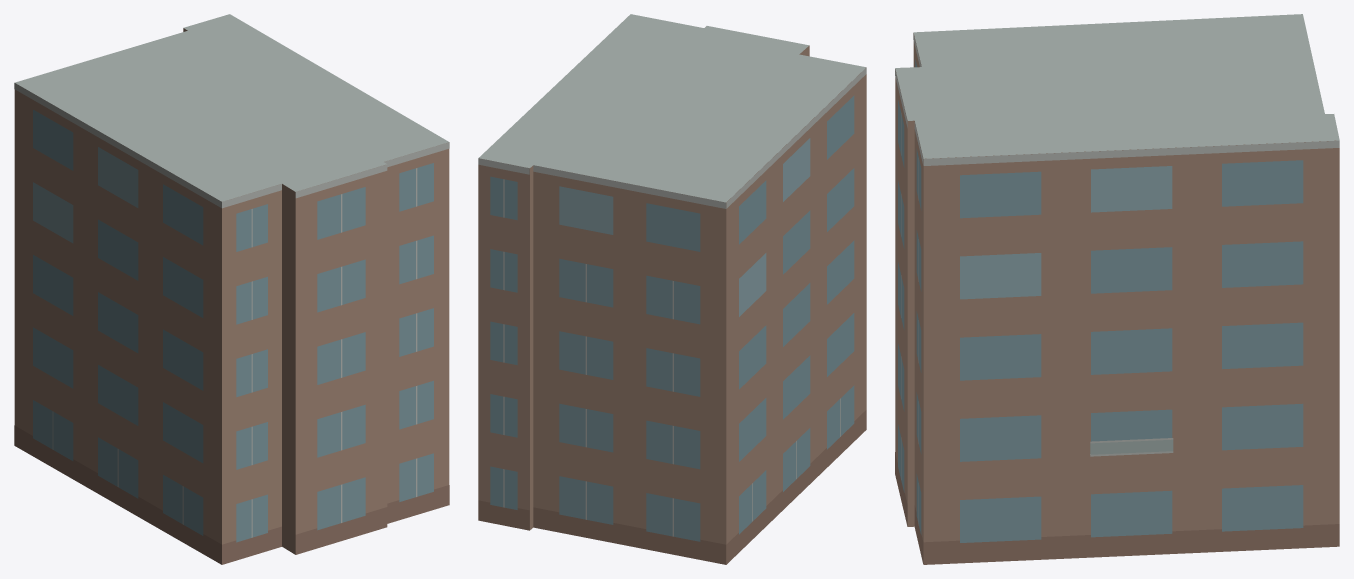
The model's file is survey-upis-32661369.glb.
3 renders of one model, left to right at view 1: azimuth 30°, elevation 25°; view 2: azimuth 150°, elevation 25°; view 3: azimuth 270°, elevation 25°, orthographic. The views are drawn at different scales.
Visible parts, largest first — view 1: survey-upis-32661369.tmp; view 2: survey-upis-32661369.tmp; view 3: survey-upis-32661369.tmp.
Part boxes in pixels (x1,y1,x2,y2): survey-upis-32661369.tmp: (14, 14, 449, 564); survey-upis-32661369.tmp: (478, 14, 866, 564); survey-upis-32661369.tmp: (895, 14, 1339, 564).
Bounding box in the file's own units: 10.37 × 13.55 × 13.46.
